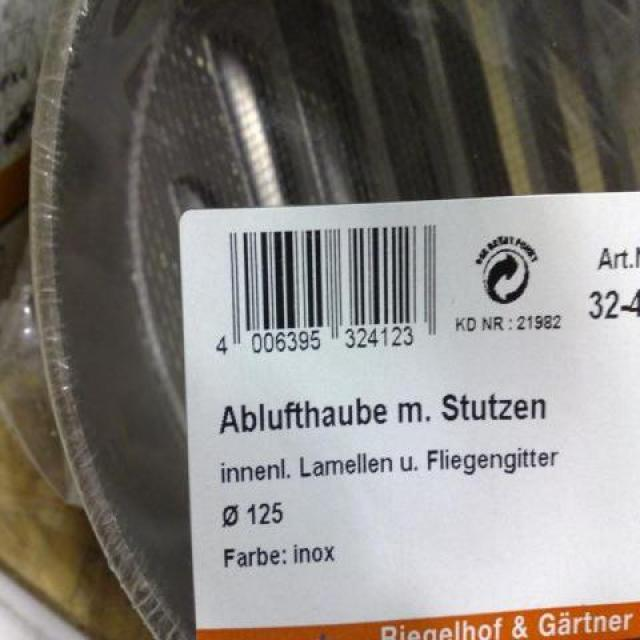Barcode: (206, 215, 453, 372)
